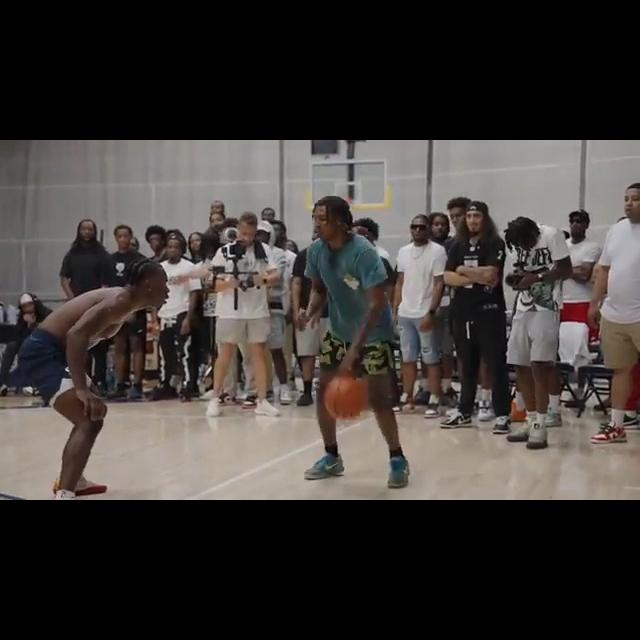basketball: (320, 374, 367, 424)
